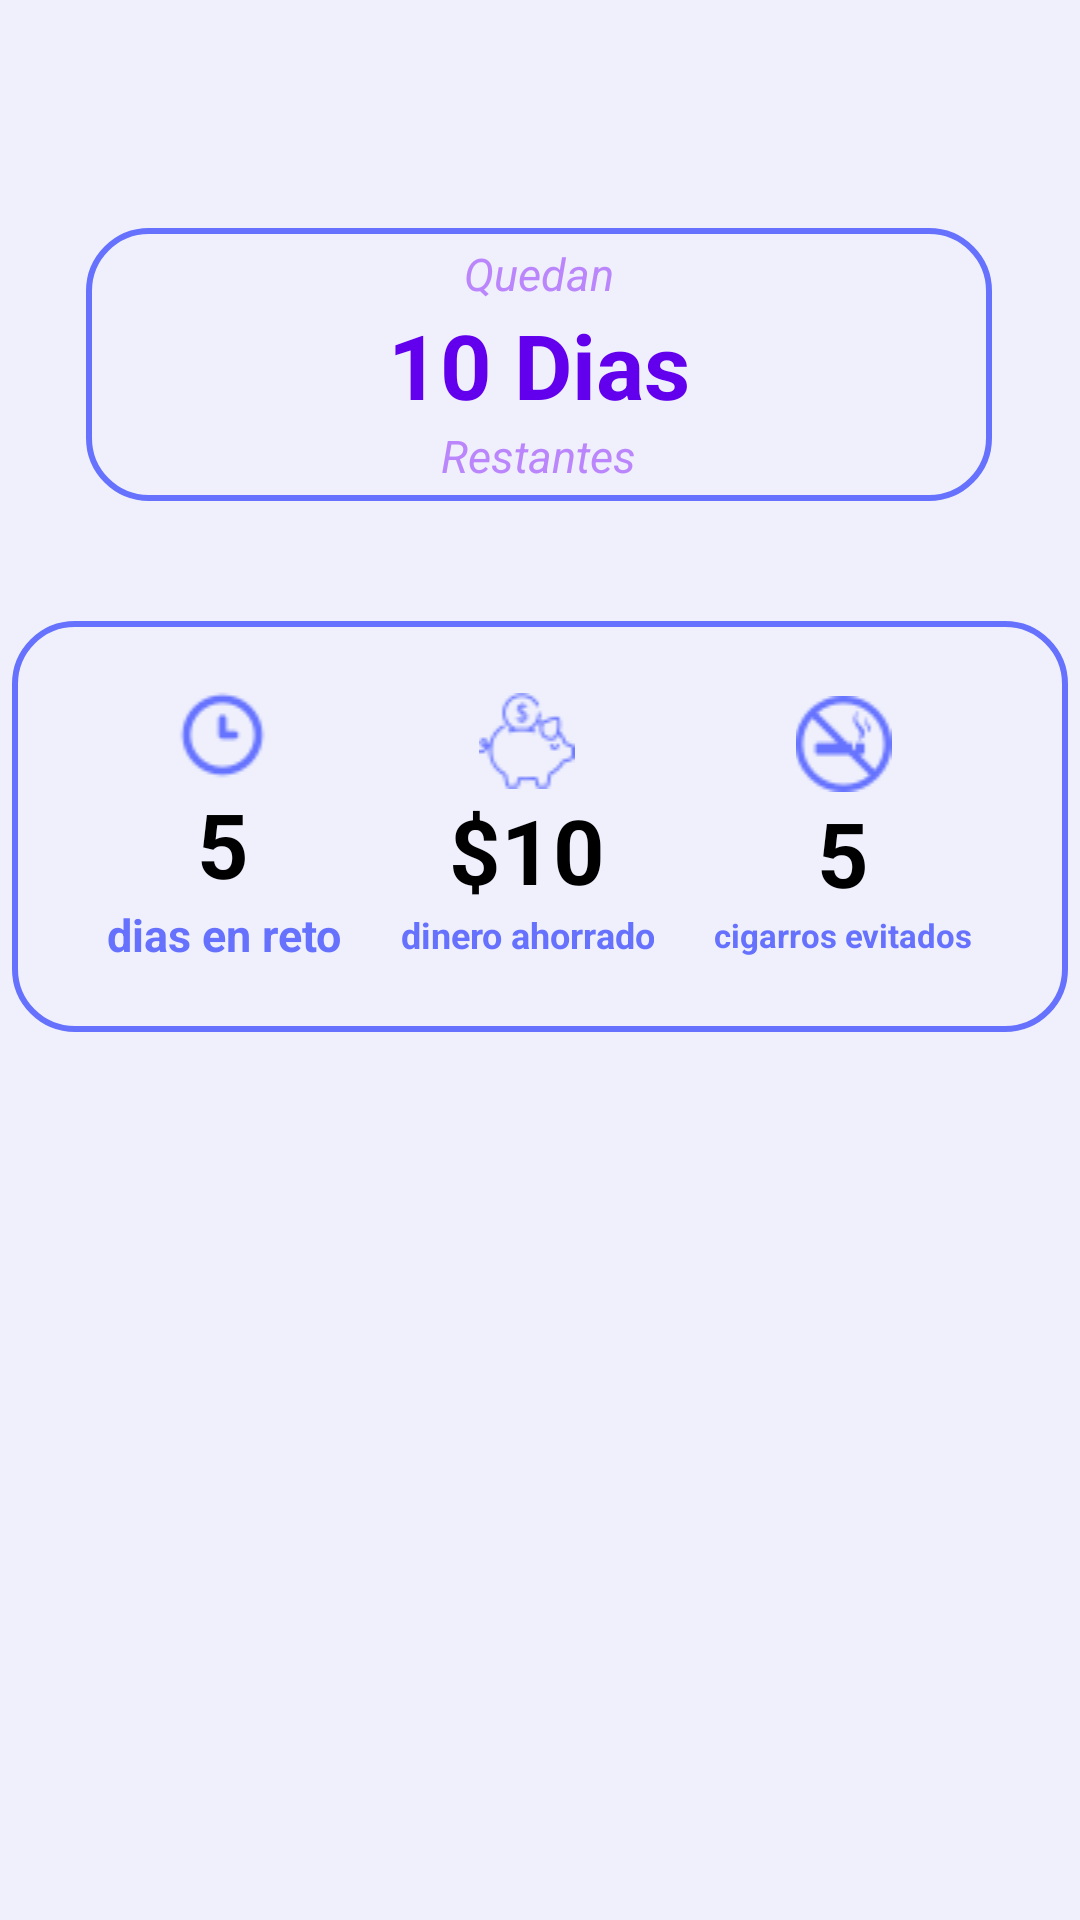

Locate icon controls on the screen. Image size 1080px x 1920px, boxes as bbox(x1, y1, x2, y2).
hucha: bbox(479, 693, 575, 789)
no fumar: bbox(796, 696, 892, 792)
